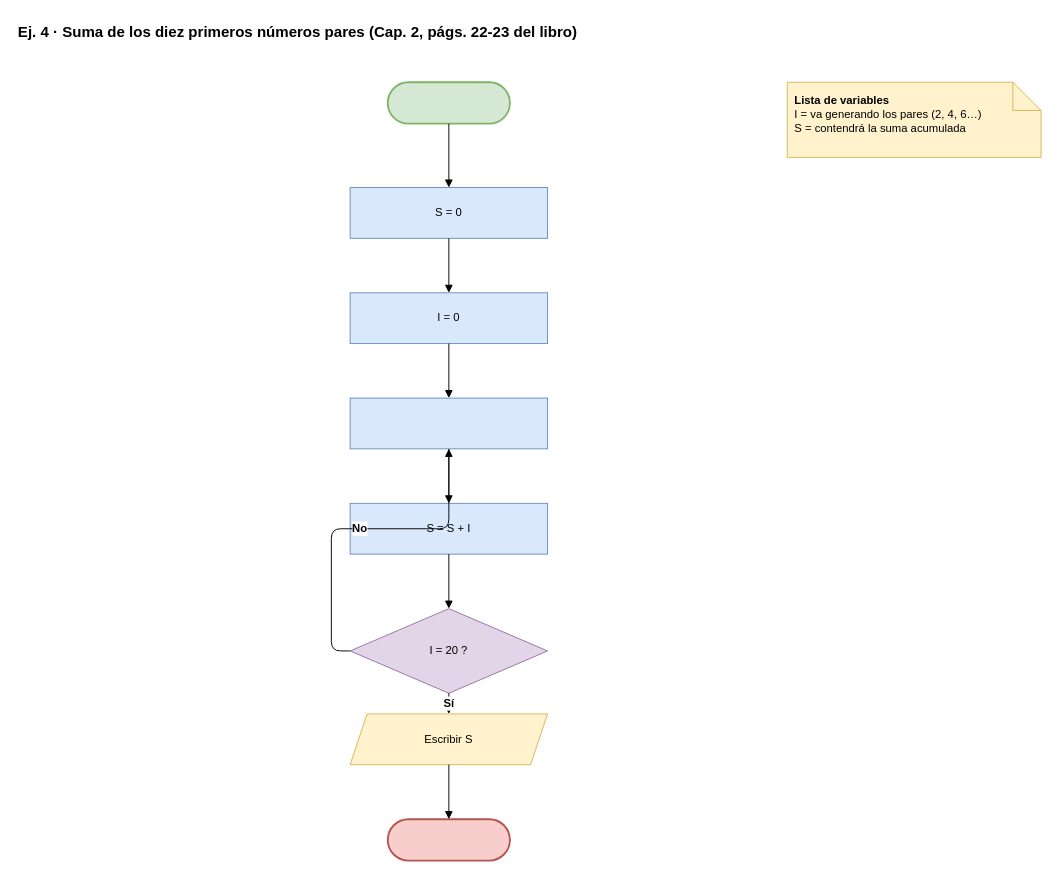
The diagram is 1058 pixels wide and 877 high, and some of its shapes have lost their labels. Here are the shapes that lost their labels. From the top down, the centre of each, then its label:
At point (448, 102): "Inicio".
At point (448, 423): "I = I + 2".
At point (448, 839): "Fin".
